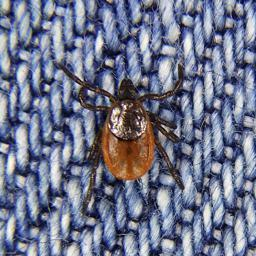Ixodes scapularis: (63, 66, 185, 203)
